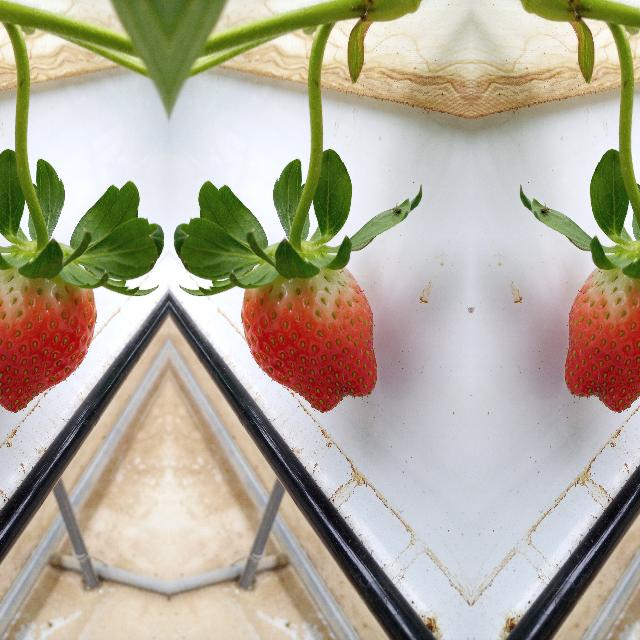Health_100: (240, 266, 376, 414), (0, 266, 96, 413), (564, 266, 640, 413)
